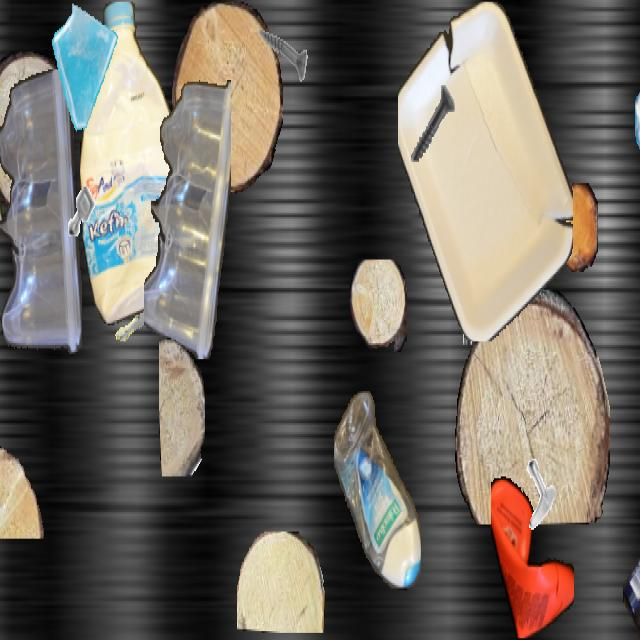glass: (48, 2, 122, 133), (635, 51, 640, 201)
metal: (401, 70, 463, 180), (98, 271, 156, 374), (250, 2, 308, 105), (455, 261, 501, 343), (515, 455, 559, 533), (60, 174, 102, 249)
plastic: (398, 2, 572, 340), (80, 2, 182, 325), (144, 73, 230, 357), (0, 69, 82, 361), (334, 391, 420, 590), (491, 471, 573, 638), (622, 450, 640, 638), (0, 124, 2, 313)
wood: (455, 290, 609, 524), (172, 2, 282, 194), (438, 166, 530, 300), (0, 52, 74, 212), (237, 532, 325, 631), (159, 338, 205, 476), (350, 260, 406, 352), (0, 442, 47, 538), (555, 183, 597, 272)
